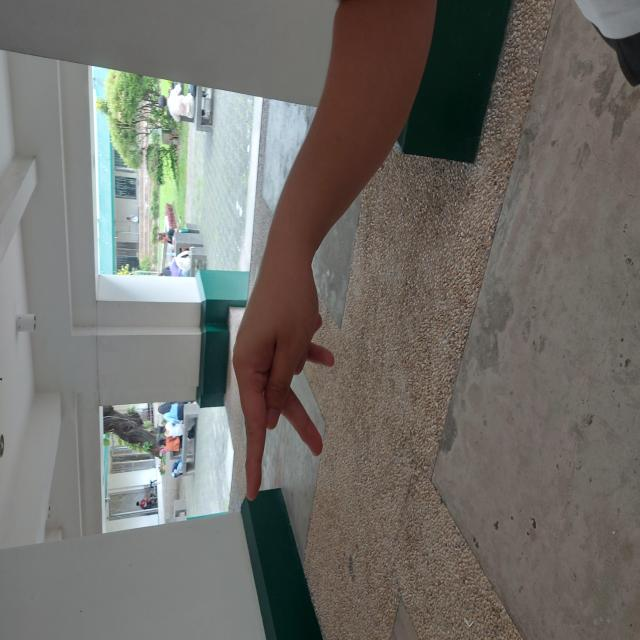P: (135, 227, 380, 336)
